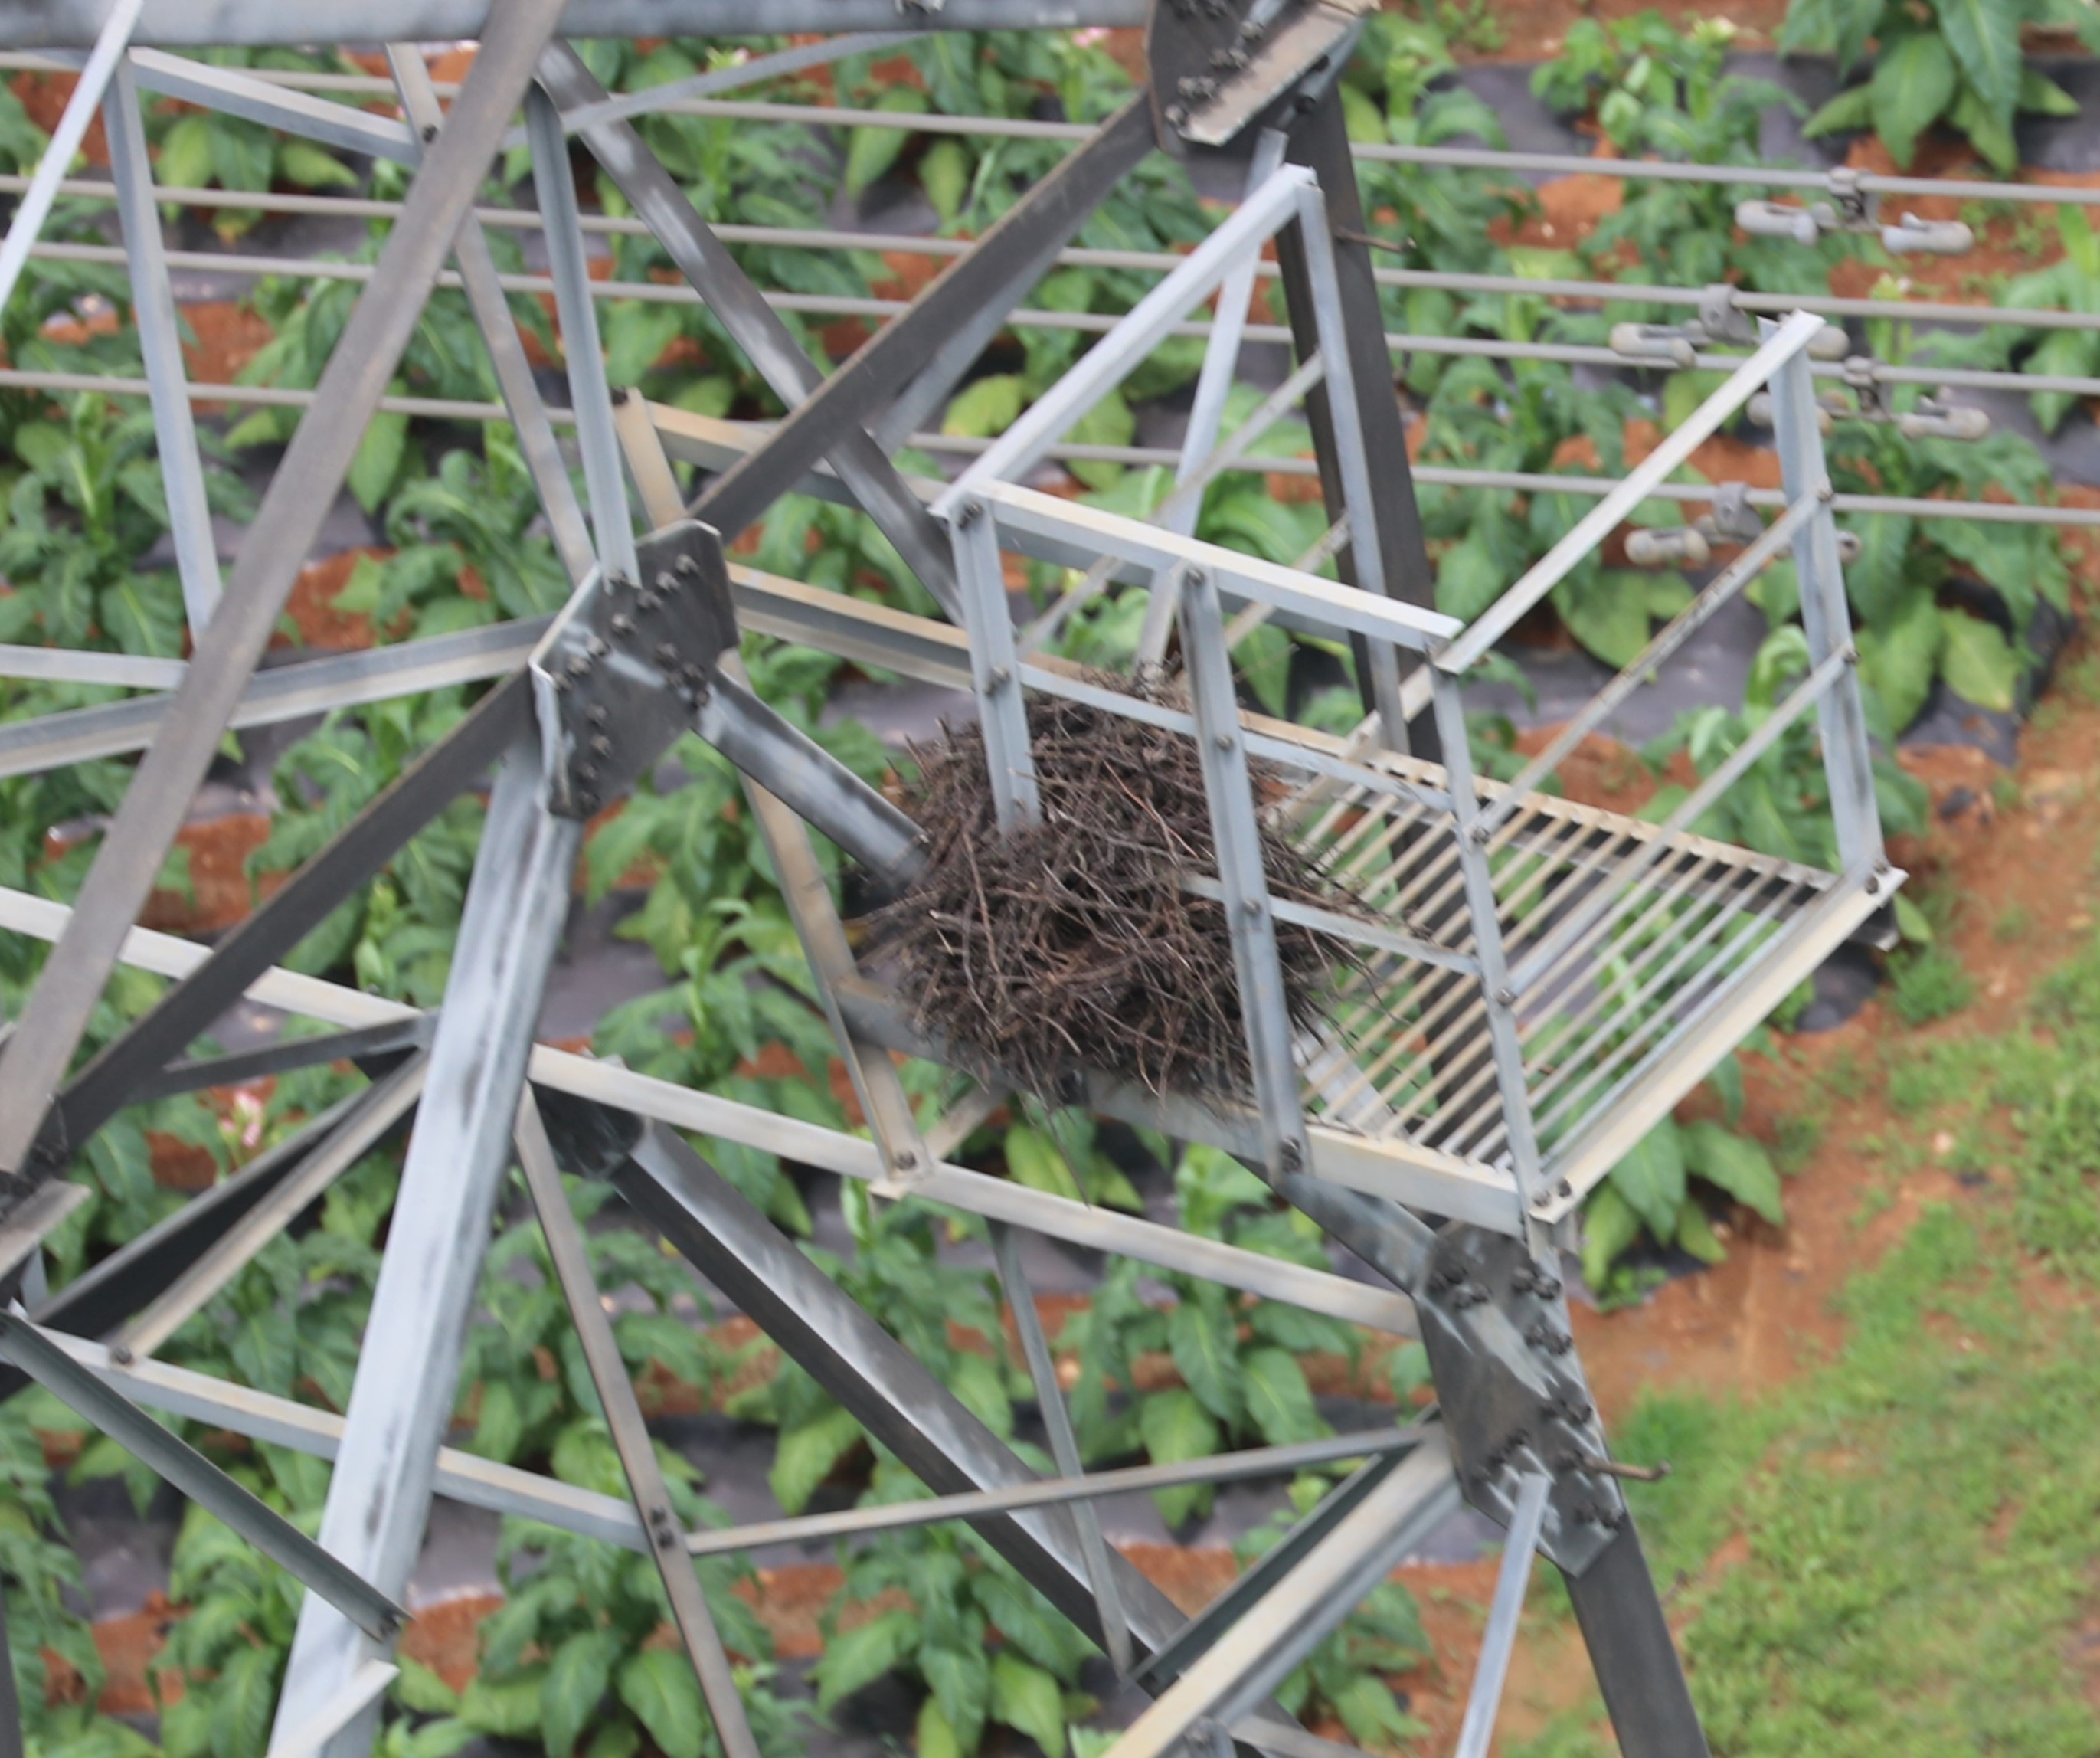niaowo: (869, 658, 1362, 1123)
